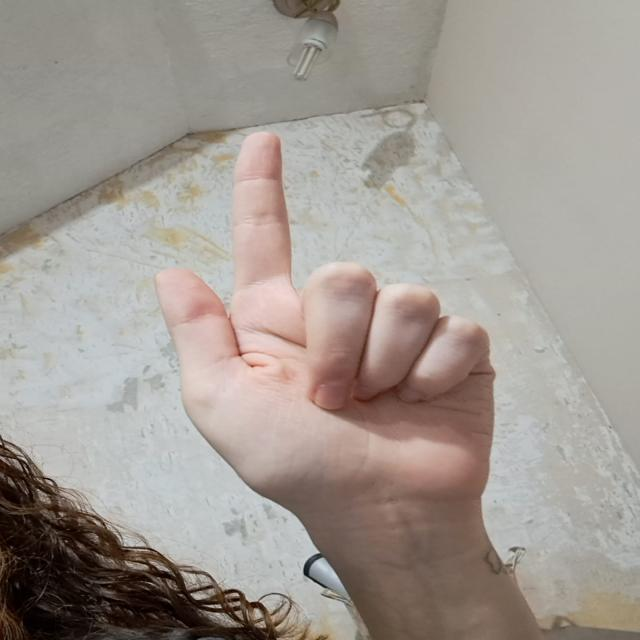G: (149, 130, 507, 488)
